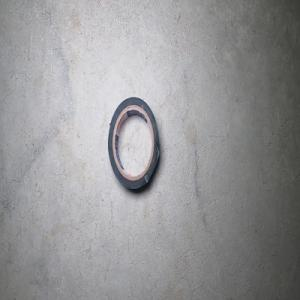Tape: (107, 96, 160, 192)
